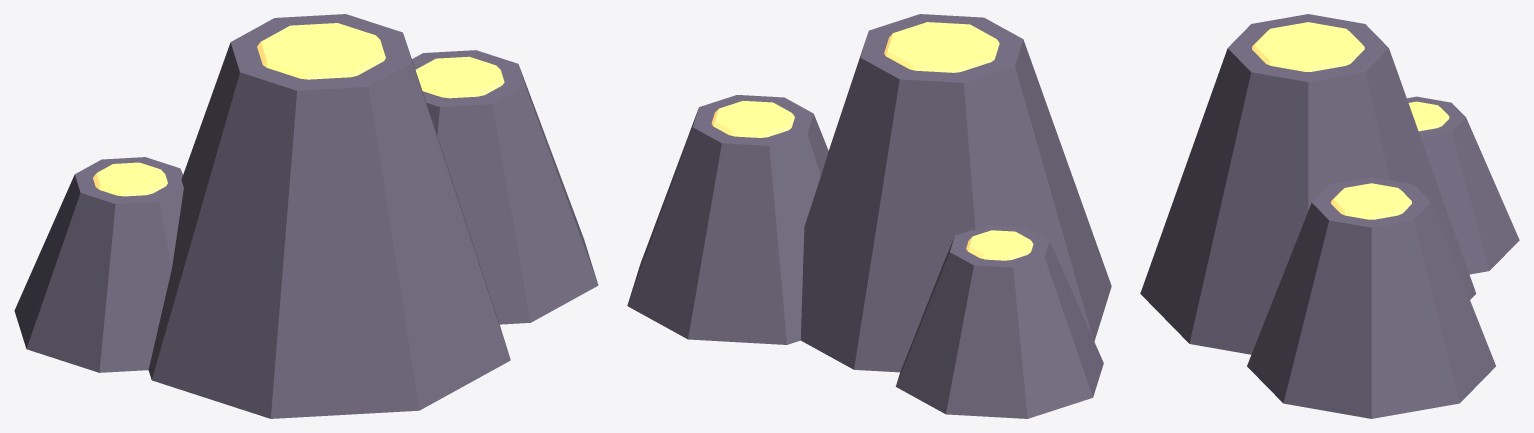
The model's file is ember_vent_cluster.glb.
3 views of the same model, side by side, from view 1: azimuth 30°, elevation 25°; view 2: azimuth 150°, elevation 25°; view 3: azimuth 270°, elevation 25° (orthographic). The views are drawn at different scales.
Visible parts, largest first — view 1: ember_vent_cluster.001; view 2: ember_vent_cluster.001; view 3: ember_vent_cluster.001.
Part boxes in pixels (x1,y1,x2,y2): ember_vent_cluster.001: [14, 14, 598, 418]; ember_vent_cluster.001: [627, 14, 1111, 418]; ember_vent_cluster.001: [1140, 14, 1519, 418].
Size of the model in its own units: 2.91 by 1.52 by 2.1.
